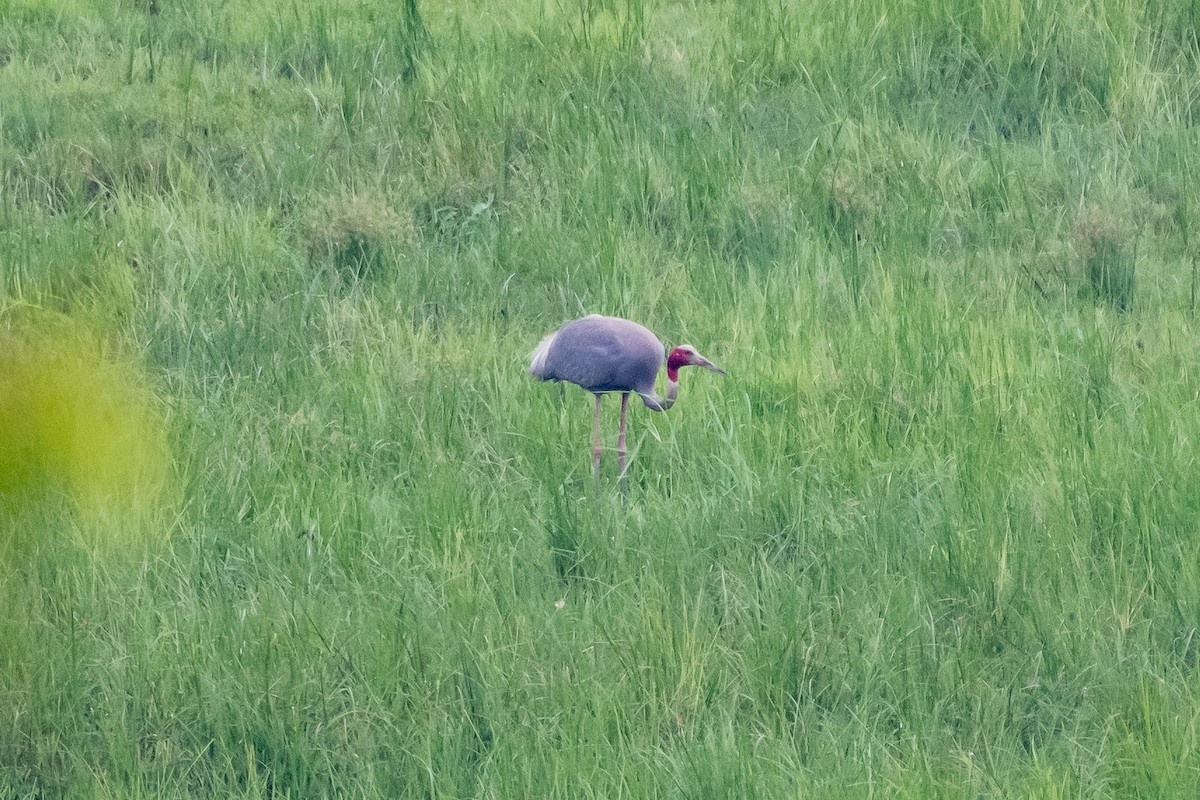crane: (526, 299, 730, 469)
